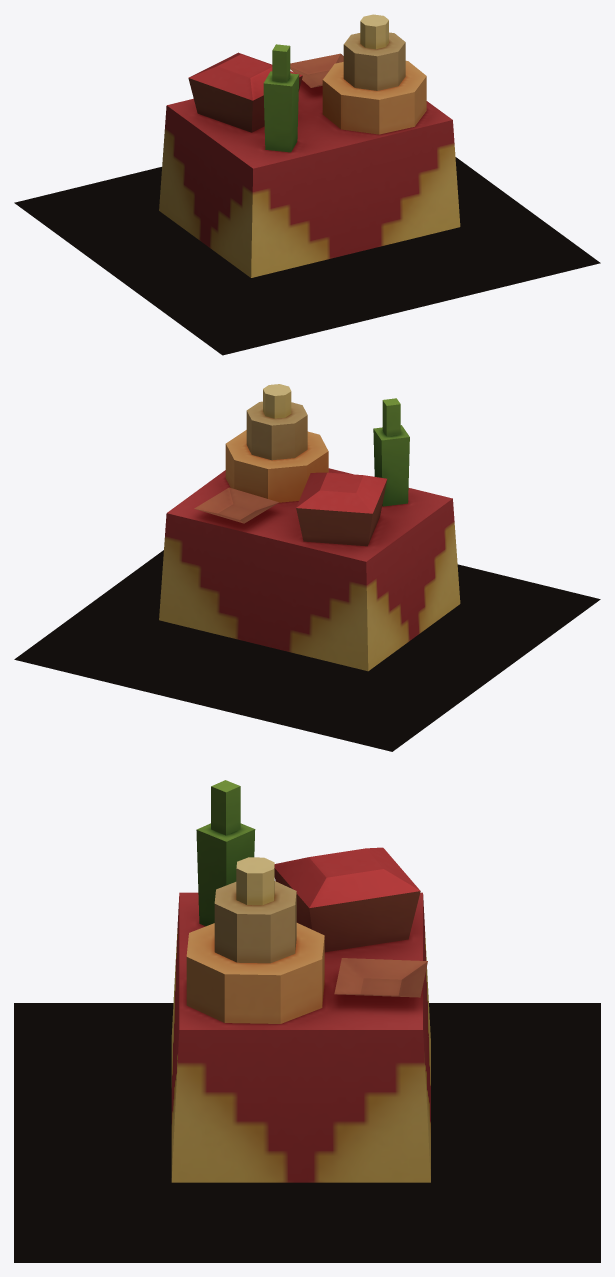
Rendered from ballroom_death_floor_end.FBX.
3 renders of one model, top to bottom at view 1: azimuth 30°, elevation 25°; view 2: azimuth 150°, elevation 25°; view 3: azimuth 270°, elevation 25°, orthographic. The views are drawn at different scales.
Visible parts, largest first — view 1: ballroom_death_floor_end, ballroom_death_floor_end_soft_shadow; view 2: ballroom_death_floor_end, ballroom_death_floor_end_soft_shadow; view 3: ballroom_death_floor_end_soft_shadow, ballroom_death_floor_end.
Part boxes in pixels (left/top/right/bottom): ballroom_death_floor_end: left=159, top=14, right=460, bottom=277; ballroom_death_floor_end_soft_shadow: left=14, top=157, right=600, bottom=355; ballroom_death_floor_end: left=159, top=384, right=460, bottom=671; ballroom_death_floor_end_soft_shadow: left=14, top=550, right=600, bottom=751; ballroom_death_floor_end_soft_shadow: left=14, top=1003, right=600, bottom=1262; ballroom_death_floor_end: left=171, top=780, right=430, bottom=1182.
Size of the model in its own units: 1776 by 985 by 1696.
